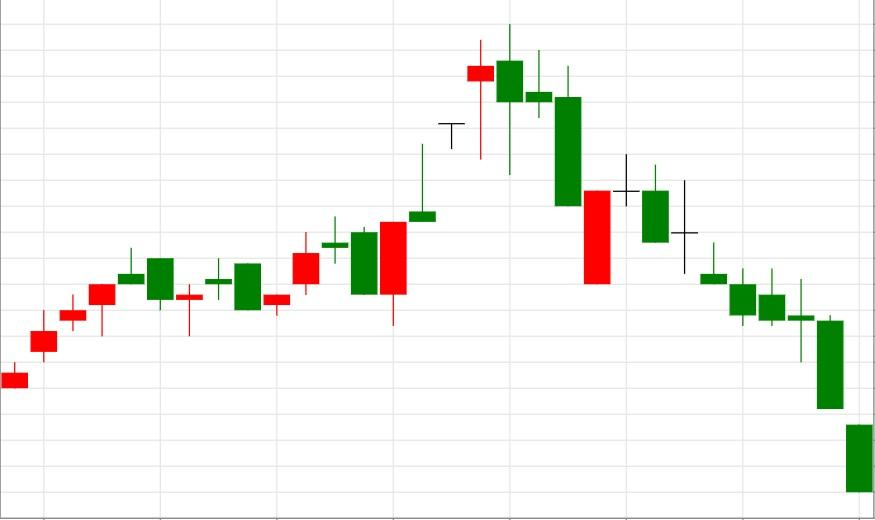bearish_engulfing_fall: (379, 23, 524, 327)
